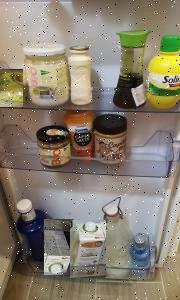Guacamole: (0, 69, 23, 108)
Leche: (70, 220, 106, 278), (44, 219, 74, 275)
